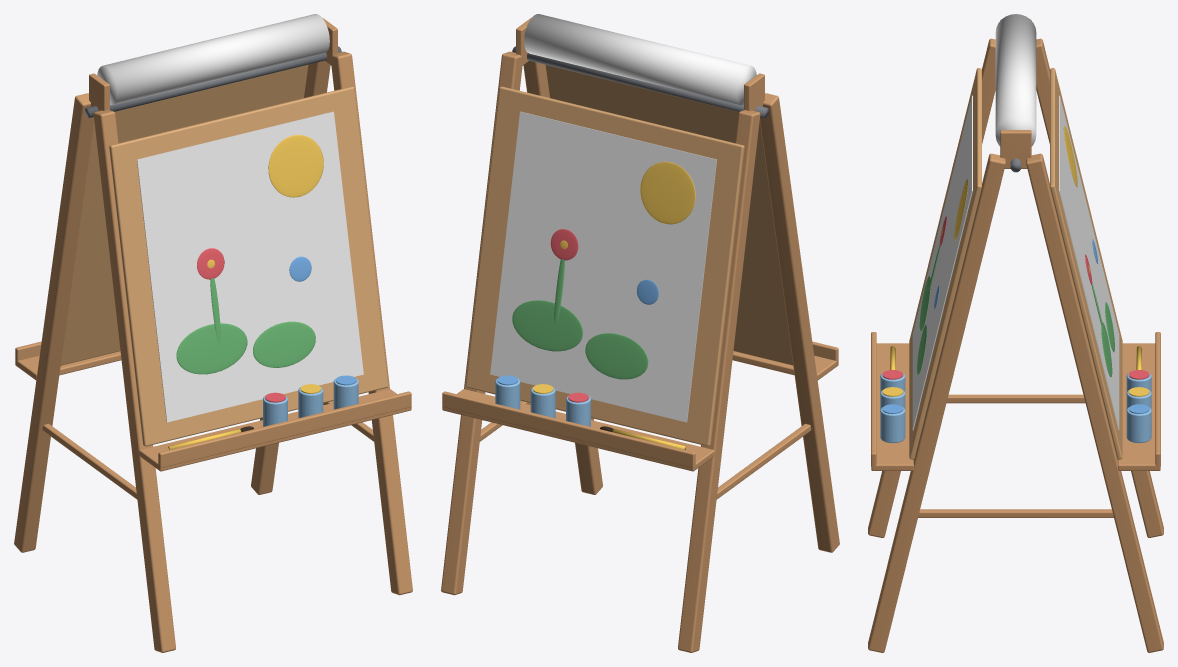
Rendered from easel.glb.
The picture shows the model from 3 angles, left to right: view 1: azimuth 30°, elevation 25°; view 2: azimuth 150°, elevation 25°; view 3: azimuth 270°, elevation 25°; orthographic projection.
Parts seen in each view (by area): view 1: EaselPaper_-1.001, EaselBoard_-1.001, EaselBoard_1.001, EaselLeg_1_-1.001, EaselRoll.001, EaselLeg_-1_-1.001, EaselLeg_-1_1.001, EaselTrayLip_-1.001, EaselPaint_-1_0.001, EaselPaint_-1_1.001, EaselPaint_-1_2.001, EaselTray_-1.001 (+9 smaller); view 2: EaselPaper_1.001, EaselBoard_1.001, EaselBoard_-1.001, EaselLeg_-1_-1.001, EaselRoll.001, EaselLeg_1_-1.001, EaselLeg_1_1.001, EaselTrayLip_1.001, EaselPaint_1_0.001, EaselPaint_1_1.001, EaselPaint_1_2.001, EaselTray_1.001 (+9 smaller); view 3: EaselLeg_1_1.001, EaselLeg_-1_1.001, EaselPaper_1.001, EaselPaper_-1.001, EaselRoll.001, EaselBoard_1.001, EaselBoard_-1.001, EaselTray_1.001, EaselTray_-1.001, EaselLeg_1_-1.001, EaselLeg_-1_-1.001, EaselBrace_1.001 (+6 smaller).
Boxes of the visible parts, x1,y1,x2,y2 form: EaselPaper_-1.001: (137, 111, 363, 422); EaselBoard_-1.001: (109, 86, 388, 446); EaselBoard_1.001: (60, 65, 308, 365); EaselLeg_1_-1.001: (14, 93, 93, 552); EaselRoll.001: (97, 14, 329, 105); EaselLeg_-1_-1.001: (93, 110, 175, 652); EaselLeg_-1_1.001: (330, 51, 412, 595); EaselTrayLip_-1.001: (158, 391, 411, 467); EaselPaint_-1_0.001: (268, 135, 323, 197); EaselPaint_-1_1.001: (176, 323, 247, 374); EaselPaint_-1_2.001: (253, 321, 315, 367); EaselTray_-1.001: (139, 389, 411, 471); EaselPaper_1.001: (490, 111, 716, 422); EaselBoard_1.001: (465, 86, 744, 446); EaselBoard_-1.001: (545, 65, 793, 365); EaselLeg_-1_-1.001: (760, 93, 839, 552); EaselRoll.001: (524, 14, 756, 105); EaselLeg_1_-1.001: (678, 110, 760, 652); EaselLeg_1_1.001: (441, 51, 523, 595); EaselTrayLip_1.001: (442, 391, 695, 467); EaselPaint_1_0.001: (640, 161, 695, 224); EaselPaint_1_1.001: (512, 300, 582, 351); EaselPaint_1_2.001: (585, 333, 648, 379); EaselTray_1.001: (442, 389, 714, 471); EaselLeg_1_1.001: (1026, 153, 1163, 652); EaselLeg_-1_1.001: (868, 153, 1005, 652); EaselPaper_1.001: (1059, 95, 1119, 430); EaselPaper_-1.001: (912, 95, 972, 430); EaselRoll.001: (995, 14, 1036, 146); EaselBoard_1.001: (1050, 68, 1122, 459); EaselBoard_-1.001: (909, 68, 981, 459); EaselTray_1.001: (1118, 343, 1160, 470); EaselTray_-1.001: (871, 343, 913, 470); EaselLeg_1_-1.001: (1036, 38, 1163, 537); EaselLeg_-1_-1.001: (868, 38, 995, 537); EaselBrace_1.001: (918, 509, 1113, 517).
Bounding box in the file's own units: 1.42 × 2.86 × 1.46.
